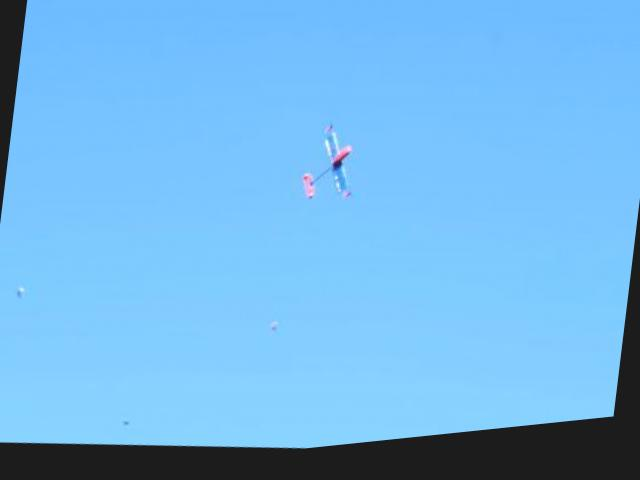uav: (284, 114, 370, 223)
